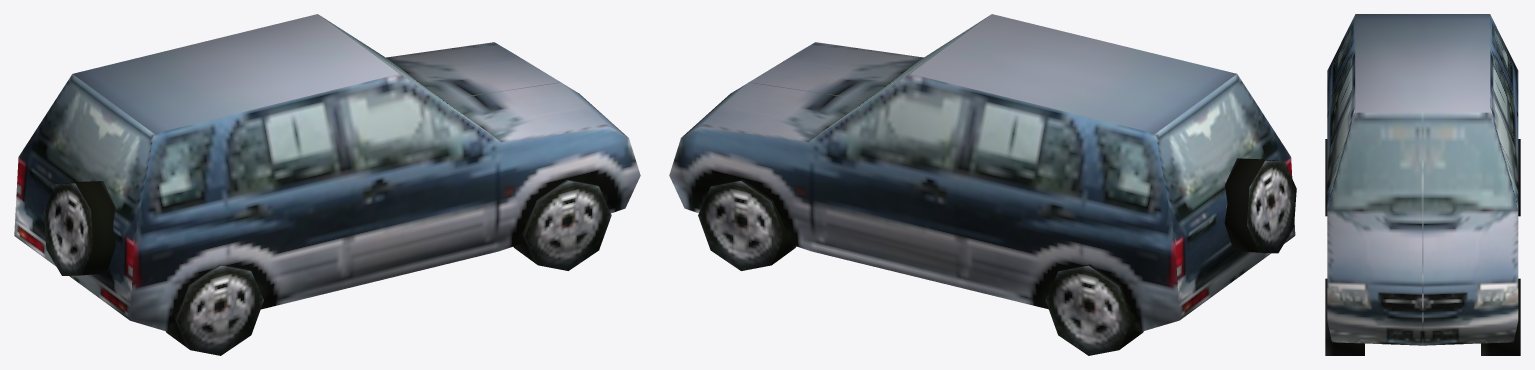
File: grandvitara.fbx
3 renders of one model, left to right at view 1: azimuth 30°, elevation 25°; view 2: azimuth 150°, elevation 25°; view 3: azimuth 270°, elevation 25°, orthographic. The views are drawn at different scales.
Visible parts, largest first — view 1: Cube; view 2: Cube; view 3: Cube.
Part boxes in pixels (box(x1,y1,x2,y2)): Cube: box(14, 14, 640, 355); Cube: box(669, 14, 1296, 355); Cube: box(1325, 14, 1520, 355).
Size of the model in its own units: 1454 by 563 by 550.
